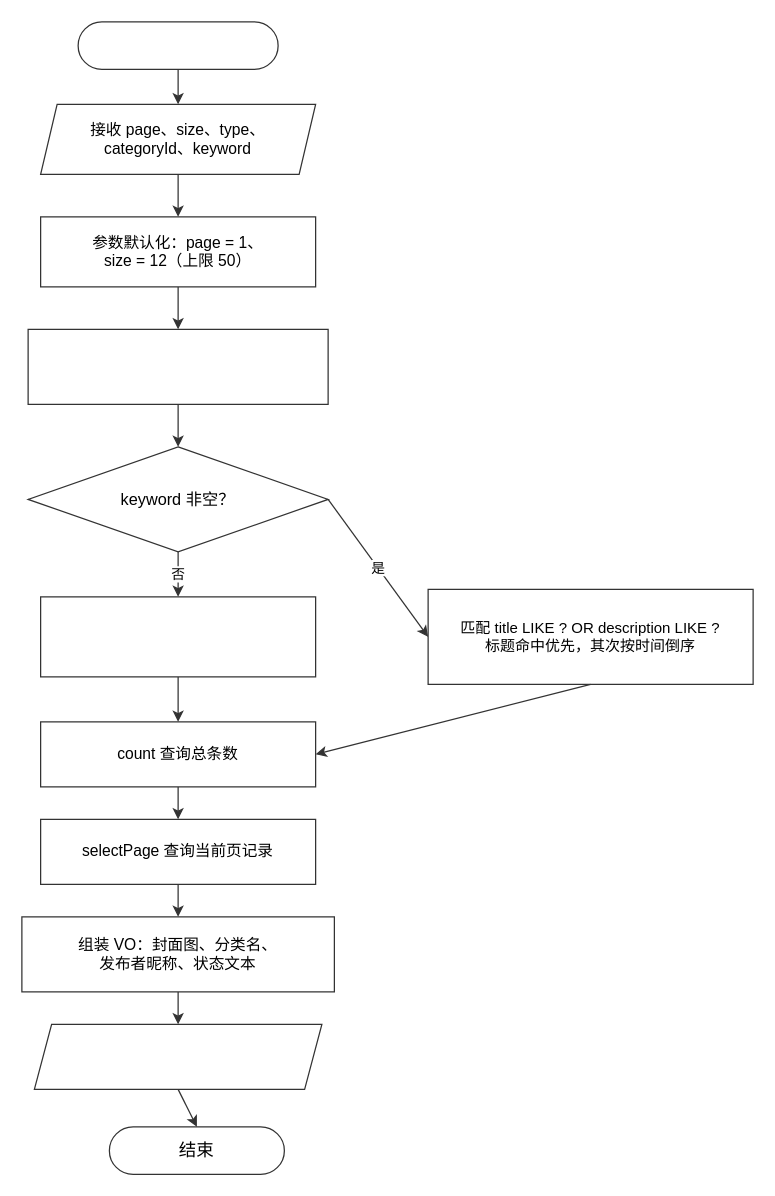
Image size: 775x1196. Some labels were removed from this diagram. The shapes that lost their labels are listed below. From the top down, each one's centre as x and y in pixels, then its label:
At (177,45): "开始".
At (177,366): "构造基础条件：audit_status = 1 且 item_status ≠ 3".
At (177,636): "按发布时间排序 ORDER BY created_at DESC".
At (177,1056): "返回 {total, records, page, size}".
